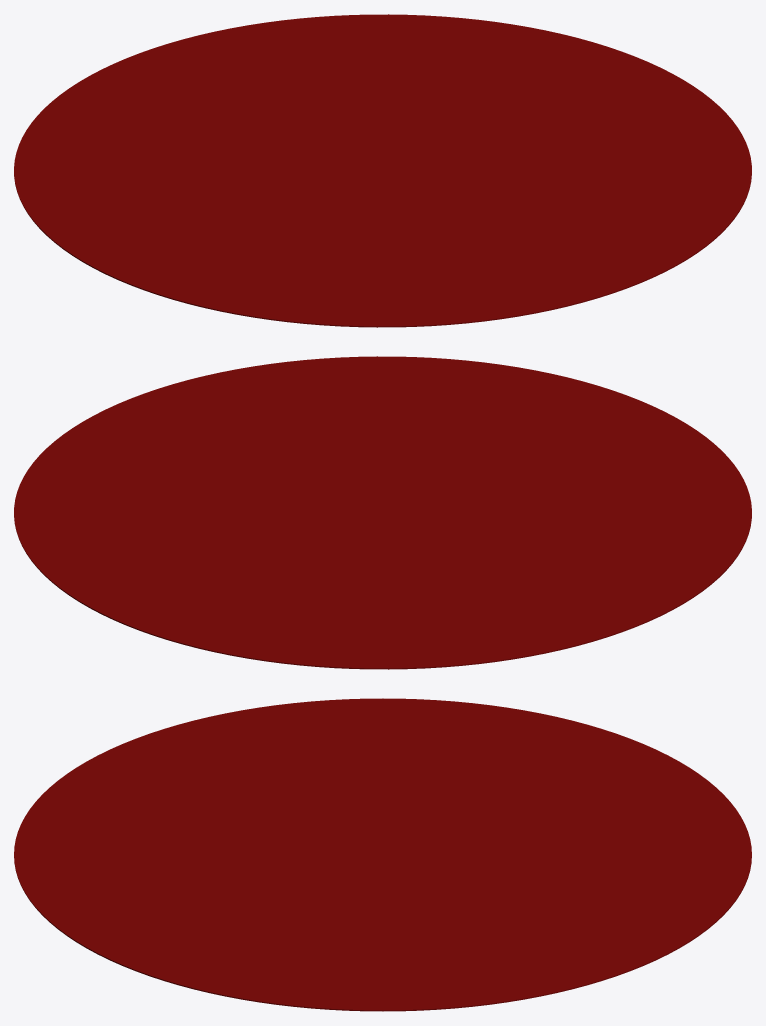
The model's file is KırmızıDaire.obj.
3 renders of one model, top to bottom at view 1: azimuth 30°, elevation 25°; view 2: azimuth 150°, elevation 25°; view 3: azimuth 270°, elevation 25°, orthographic.
Visible parts, largest first — view 1: Circle; view 2: Circle; view 3: Circle.
Part boxes in pixels (x1,y1,x2,y2): Circle: [14, 14, 751, 327]; Circle: [14, 356, 751, 669]; Circle: [14, 698, 751, 1011].
Size of the model in its own units: 1.2 by 0.002 by 1.2.
